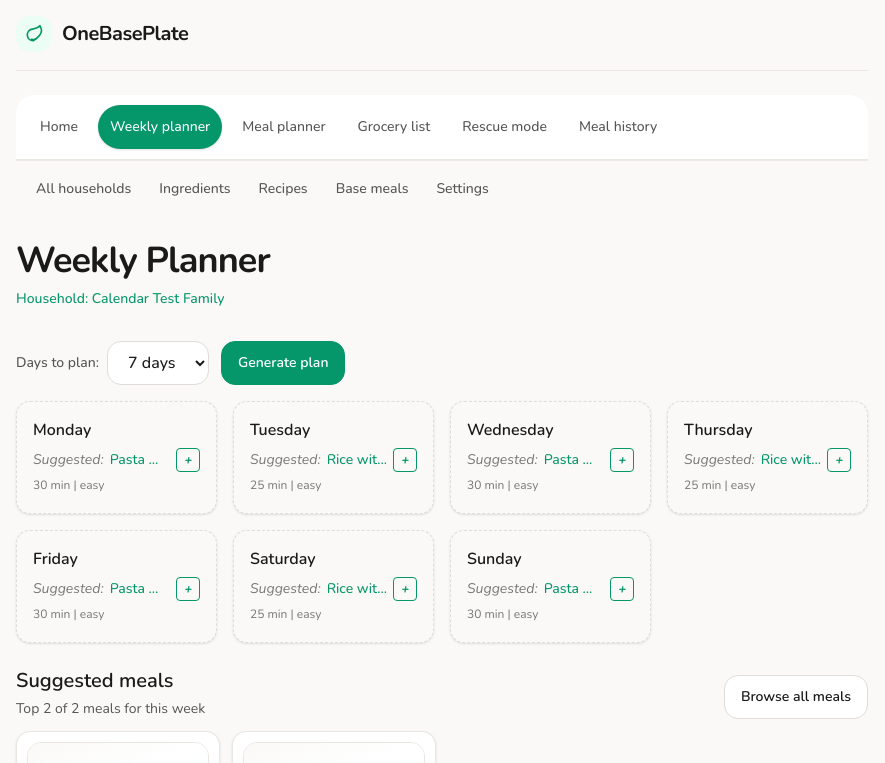
Scenario: F021: Weekly Planner always shows day cards › fills day cards after generation
This screenshot has width=885, height=763.
Click the button with test id "generate-btn": (283, 363) [221,341,345,385]
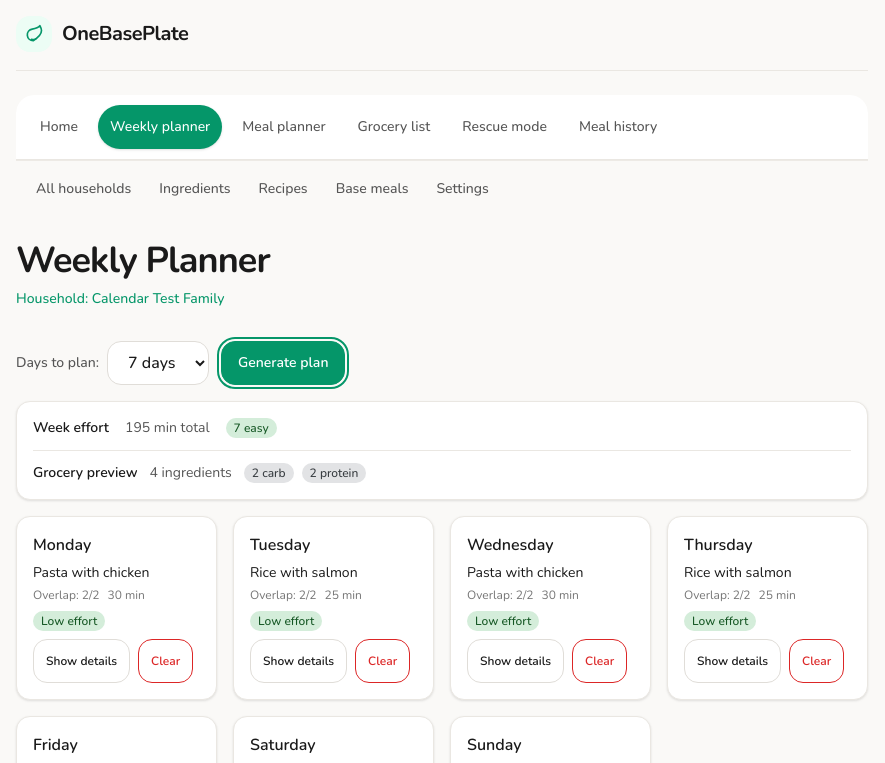
Expected: the text "Pasta with chicken" below "Monday" is shown, [33,563,150,582]
Now the element with test id "empty-monday" is gone
